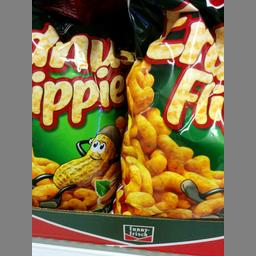chips: (116, 2, 222, 217), (31, 16, 127, 213)
